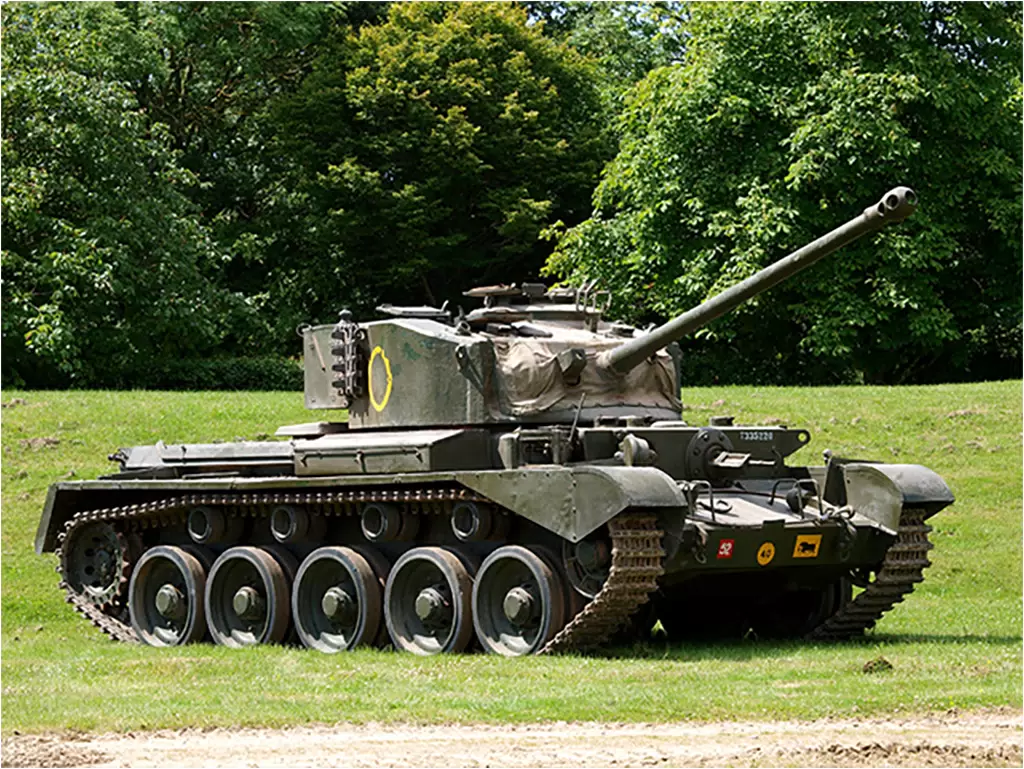tank: (44, 242, 959, 660)
